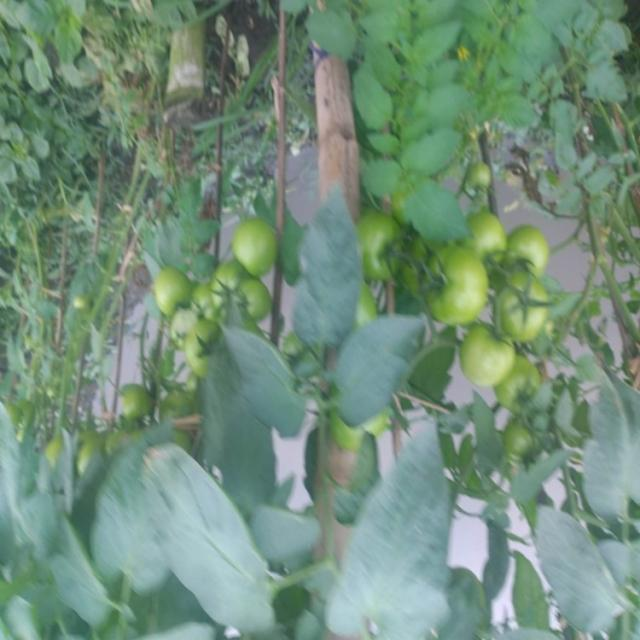tomato: (179, 301, 251, 392), (418, 241, 487, 335), (213, 208, 294, 283), (471, 331, 544, 414), (353, 181, 412, 283), (489, 264, 558, 348), (187, 264, 249, 340), (223, 264, 289, 325), (148, 268, 218, 325), (325, 408, 409, 451), (460, 206, 518, 265), (501, 420, 550, 477), (99, 421, 156, 467), (111, 384, 166, 426), (207, 253, 256, 299), (508, 229, 546, 287), (457, 147, 492, 205), (69, 292, 110, 319)
